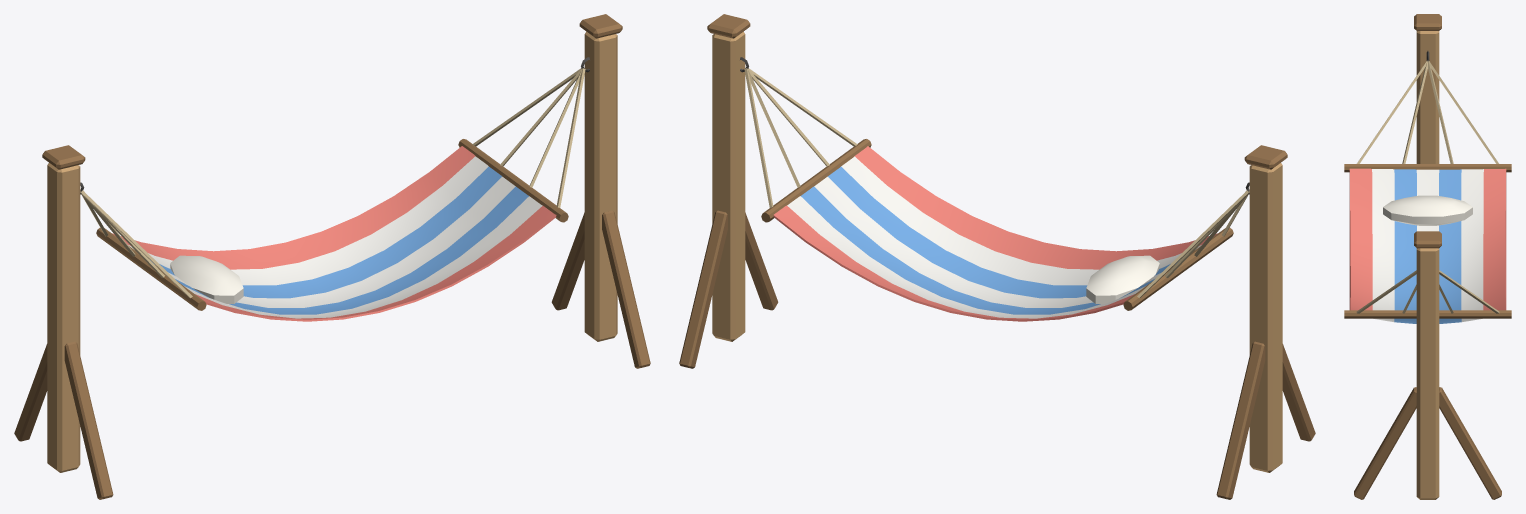
Rendered from furn_hammock.glb.
3 renders of one model, left to right at view 1: azimuth 30°, elevation 25°; view 2: azimuth 150°, elevation 25°; view 3: azimuth 270°, elevation 25°, orthographic. The views are drawn at different scales.
Parts seen in each view (by area): view 1: furn_hammock_body; view 2: furn_hammock_body; view 3: furn_hammock_body.
Part boxes in pixels (x1,y1,x2,y2): furn_hammock_body: [14, 14, 650, 499]; furn_hammock_body: [679, 14, 1315, 499]; furn_hammock_body: [1344, 14, 1511, 499].
Size of the model in its own units: 1.94 by 1.04 by 0.6.
